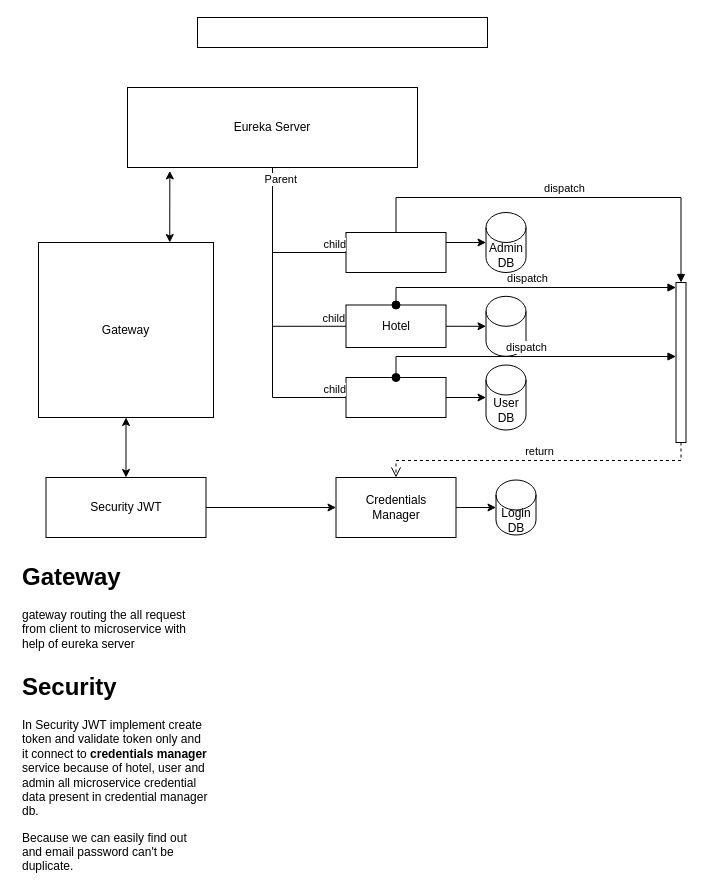
This 708x895 diagram has some shape labels left out. Each missing label, with the centre of its shape:
"Admin" belongs at pixel 395 252.
"Hotel DB" belongs at pixel 505 325.
"Hotel Service" belongs at pixel 342 32.
"User" belongs at pixel 395 397.
